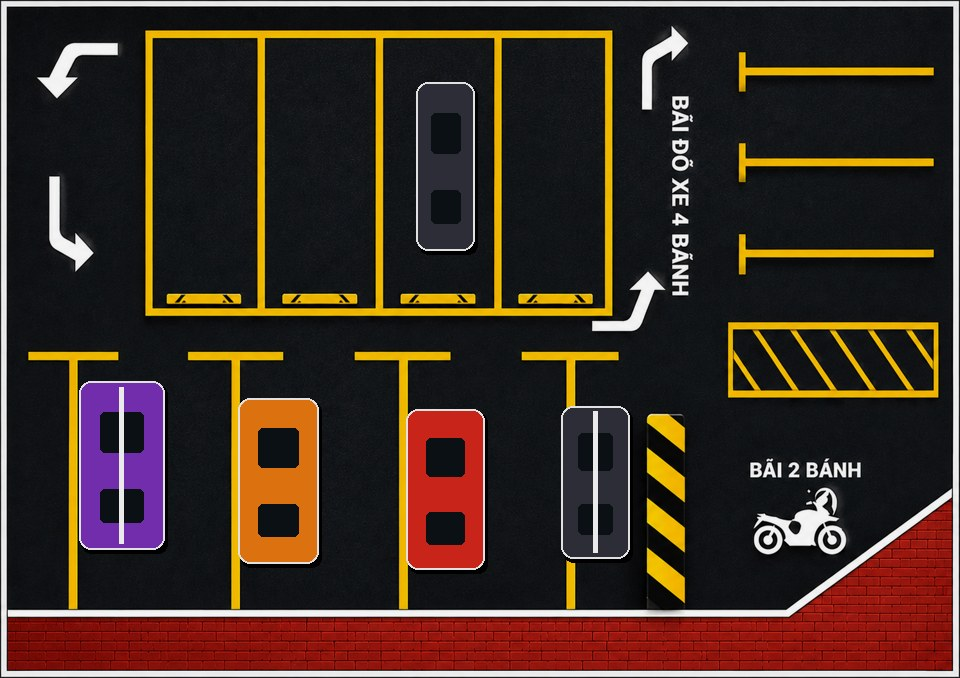empty: (148, 35, 267, 309), (267, 35, 386, 309), (505, 35, 624, 309)
occupied: (35, 351, 199, 598), (360, 351, 518, 598), (201, 351, 357, 598), (524, 351, 672, 598), (386, 35, 505, 309)
